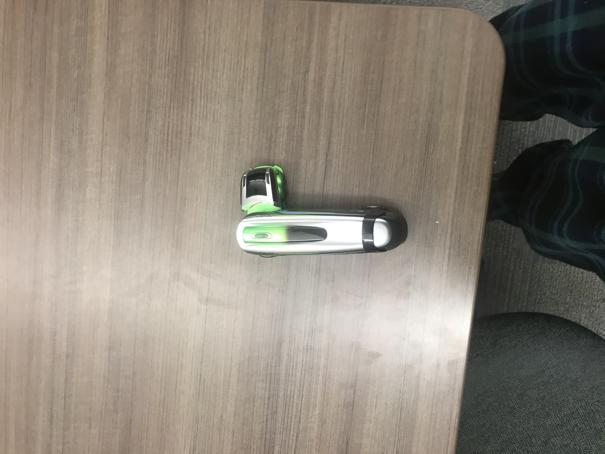Freewheel: (235, 163, 408, 258)
